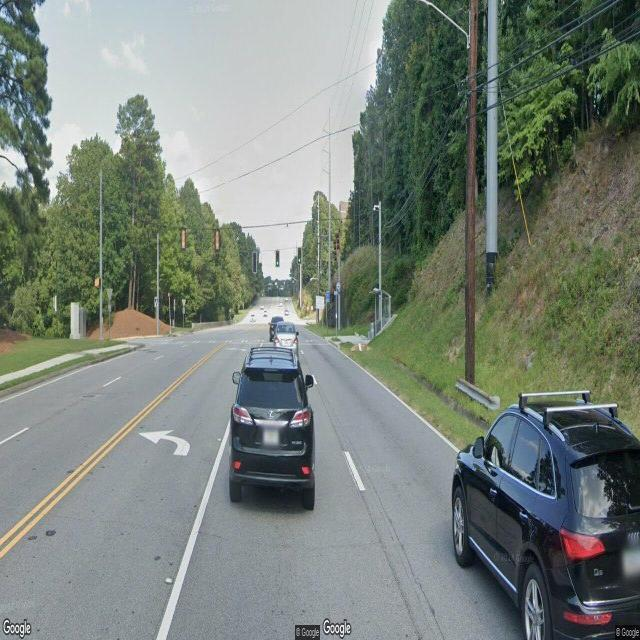shelter: (368, 289, 392, 333)
trash_can: (370, 322, 376, 338)
